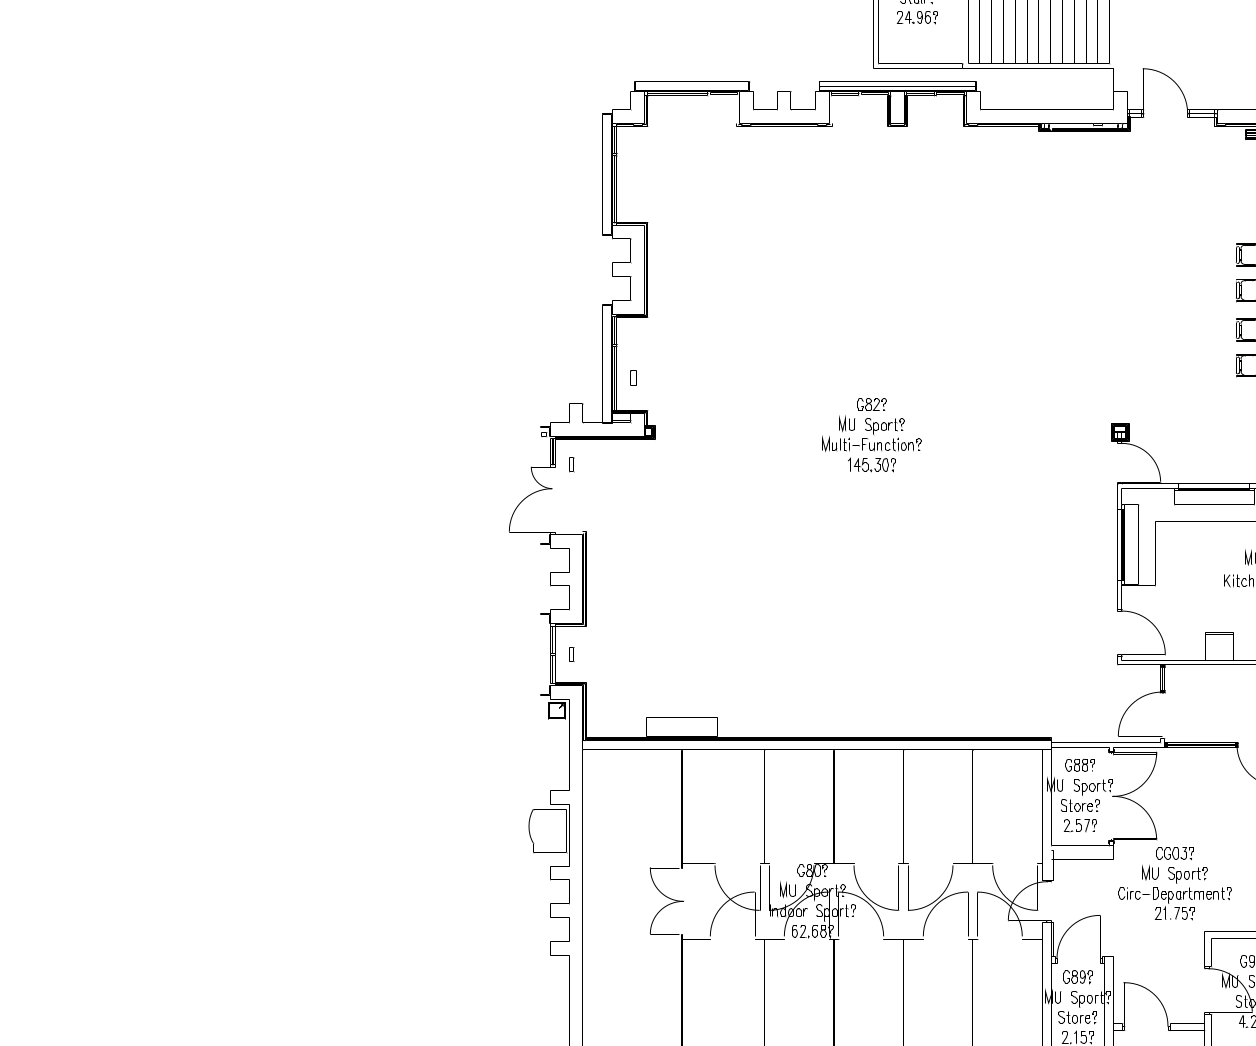door: (1110, 750, 1170, 843), (497, 457, 557, 540), (631, 859, 685, 944), (1136, 63, 1195, 129), (1103, 683, 1165, 740), (1113, 601, 1174, 659), (1119, 973, 1175, 1033), (1202, 960, 1256, 1015), (975, 889, 1029, 943), (1110, 440, 1165, 483)
